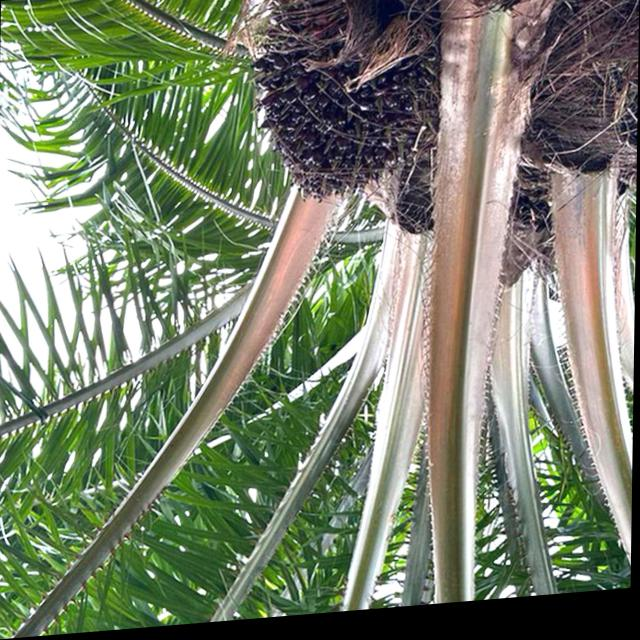almost: (238, 0, 447, 227)
